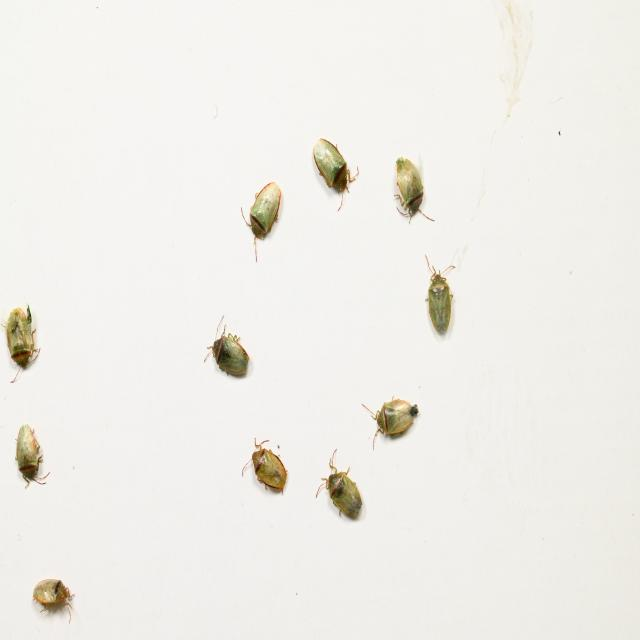stinkbug: (312, 133, 361, 213), (240, 179, 282, 264), (314, 445, 360, 522), (361, 396, 422, 453), (1, 303, 43, 383), (392, 152, 437, 226), (202, 313, 250, 381), (242, 435, 288, 500), (424, 252, 456, 338), (11, 420, 50, 490), (30, 576, 74, 625)
